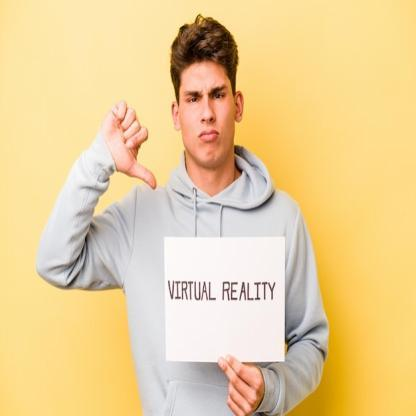thumb_down: (101, 96, 159, 191)
